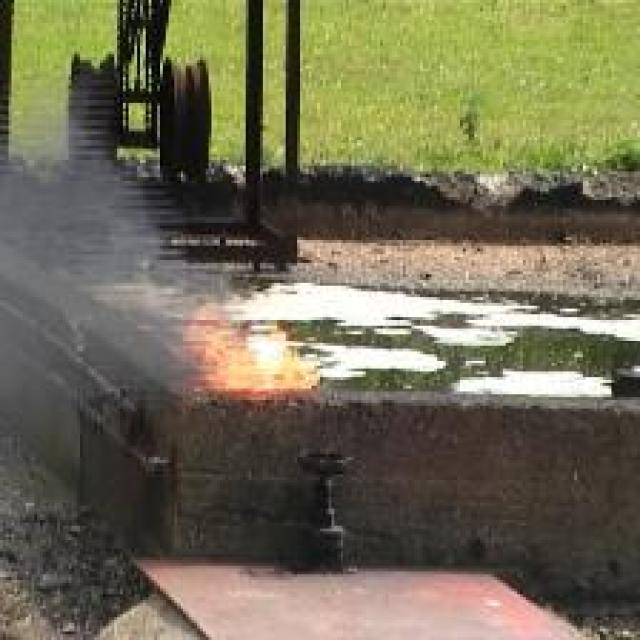fire: (183, 296, 327, 395)
smoke: (5, 154, 171, 392)
